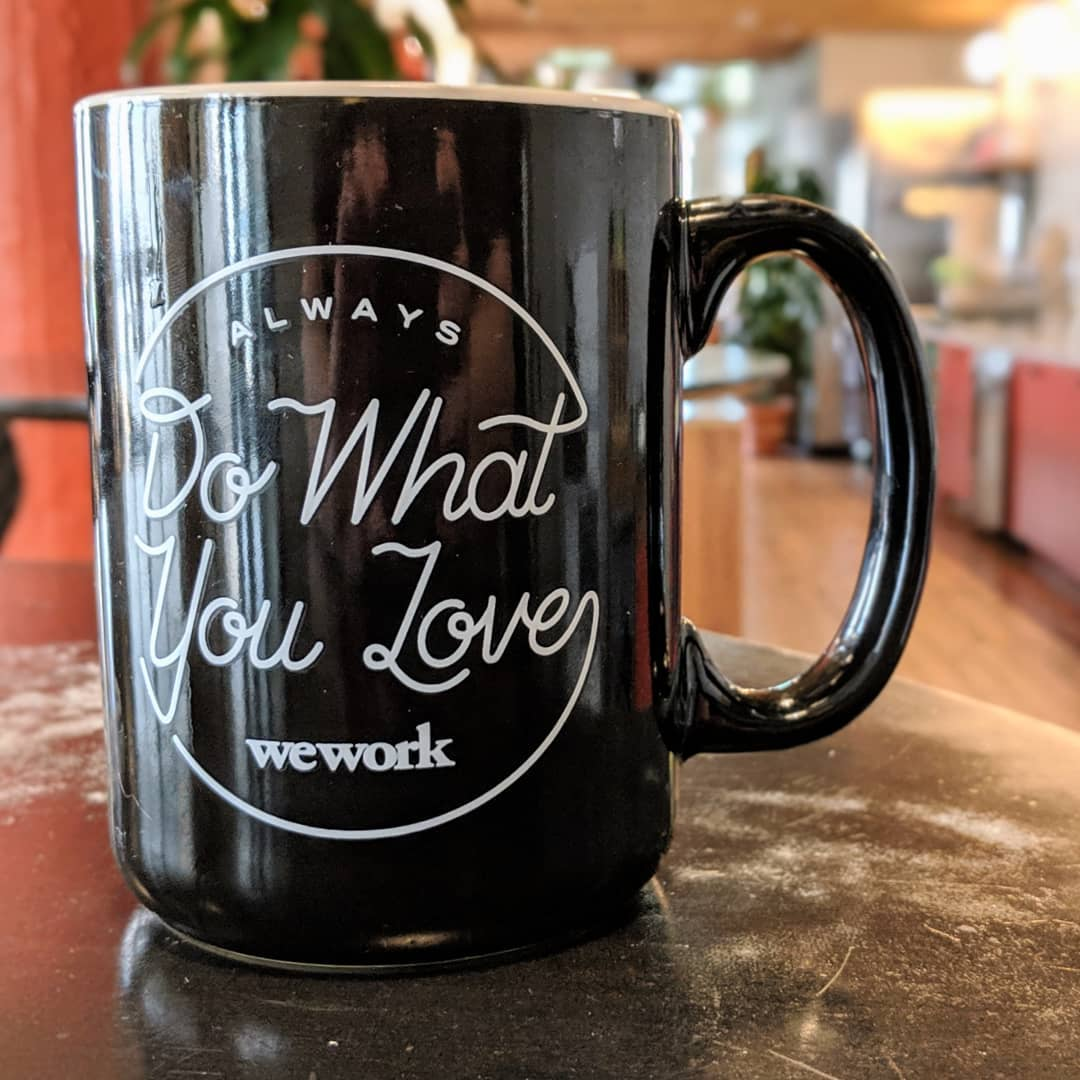wework: (239, 717, 464, 777)
